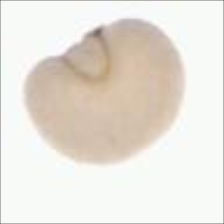L5: (58, 24, 115, 86)
L6: (19, 16, 191, 167)
